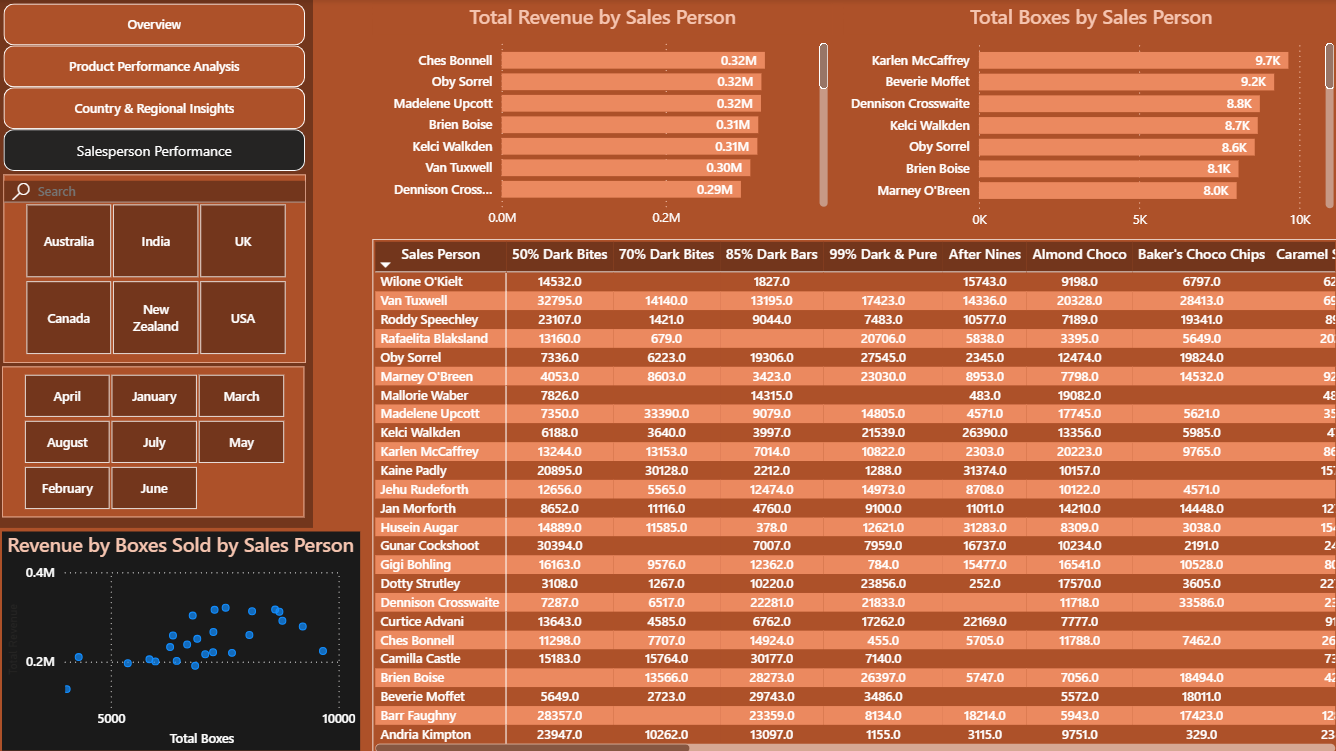

Layout of this report page (visuals, bound fields, positions):
{"tool":"powerbi","page":{"name":"Salesperson Performance","canvas":[1280,720],"ordinal":3},"visuals":[{"type":"barChart","fields":{"Y":["Chocolate Sales.Total Revenue"],"Category":["Chocolate Sales.Sales Person"]},"box":[356.6,4.4,439.6,222.7],"z":0},{"type":"barChart","fields":{"Y":["Chocolate Sales.Total Boxes"],"Category":["Chocolate Sales.Sales Person"]},"box":[806.4,4.4,473.1,224.2],"z":1000},{"type":"scatterChart","title":"Revenue by Boxes Sold by Sales Person","fields":{"Y":["Chocolate Sales.Total Revenue"],"X":["Chocolate Sales.Total Boxes"],"Category":["Chocolate Sales.Sales Person"]},"box":[2.9,508,342.1,209.6],"z":2000},{"type":"pivotTable","fields":{"Rows":["Chocolate Sales.Sales Person"],"Values":["Chocolate Sales.Total Revenue"],"Columns":["Chocolate Sales.Product"]},"box":[356.6,228.5,922.8,492],"z":3000},{"type":"shape","box":[0,0,299.8,505.1],"z":4000},{"type":"pageNavigator","box":[3.9,4.9,288.9,160.5],"z":5000},{"type":"slicer","fields":{"Values":["Chocolate Sales.Country"]},"box":[3.9,168.3,288.9,179.9],"z":6000},{"type":"slicer","fields":{"Values":["Chocolate Sales.Month"]},"box":[3,351.1,288.9,144],"z":7000}]}

Visuals, with their boxes in screenshot pixels (x1, y1, x2, y2), scaled from the page's 1280x720 canvas onto the 1336x751 screenshot:
barChart - Chocolate Sales.Total Revenue x Chocolate Sales.Sales Person: (left=372, top=5, right=831, bottom=237)
barChart - Chocolate Sales.Total Boxes x Chocolate Sales.Sales Person: (left=842, top=5, right=1335, bottom=238)
"Revenue by Boxes Sold by Sales Person" scatterChart: (left=3, top=530, right=360, bottom=748)
pivotTable - Chocolate Sales.Sales Person x Chocolate Sales.Total Revenue: (left=372, top=238, right=1335, bottom=750)
shape: (left=0, top=0, right=313, bottom=527)
pageNavigator: (left=4, top=5, right=306, bottom=173)
slicer - Chocolate Sales.Country: (left=4, top=176, right=306, bottom=363)
slicer - Chocolate Sales.Month: (left=3, top=366, right=305, bottom=516)
